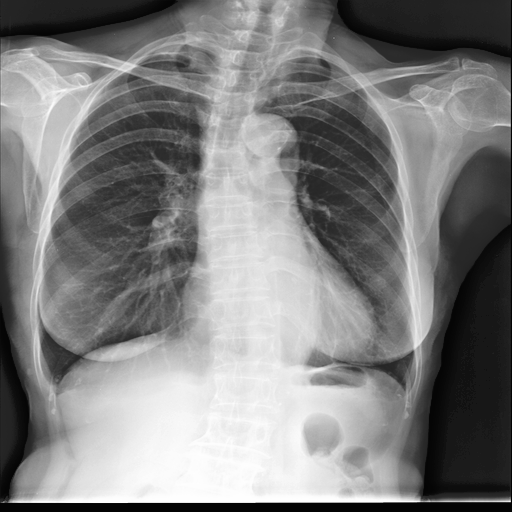Calcification: (40, 376, 69, 406), (146, 43, 188, 62), (390, 381, 417, 410)
Consolidation: (236, 112, 301, 173)
Nodule/Mass: (180, 290, 376, 358)
Other lesion: (200, 52, 277, 388)
Pleural effusion: (397, 357, 416, 409), (40, 376, 69, 406)
